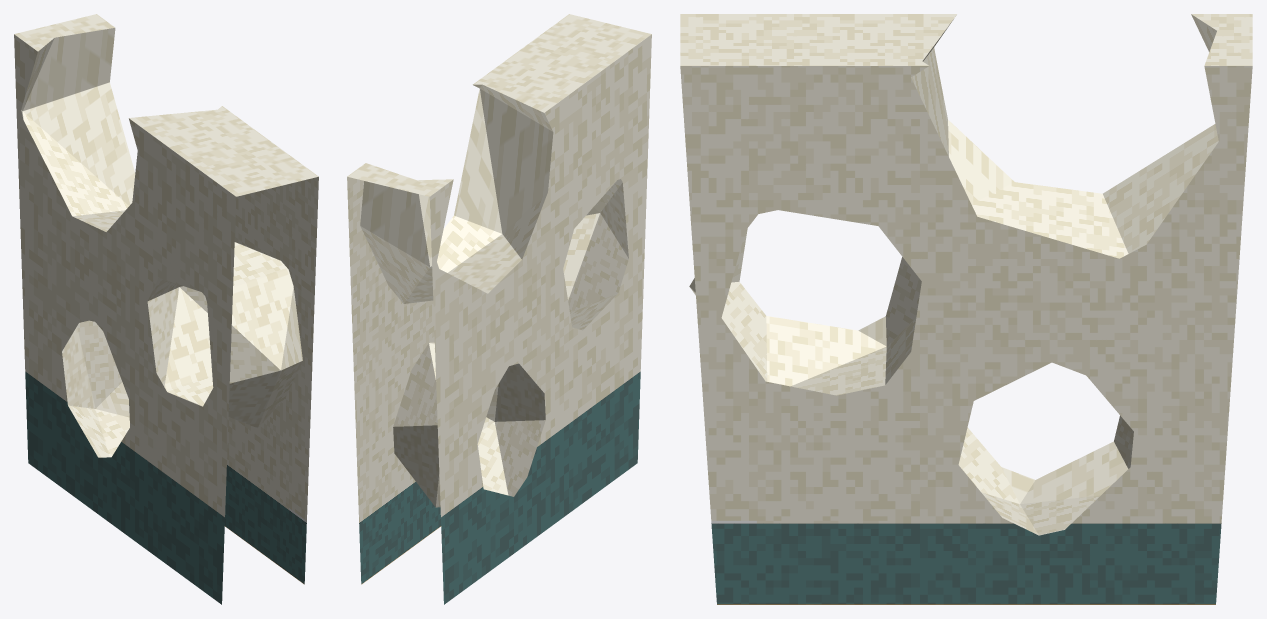
Rendered from murallarotagreciaver1.fbx.
3 views of the same model, side by side, from view 1: azimuth 30°, elevation 25°; view 2: azimuth 150°, elevation 25°; view 3: azimuth 270°, elevation 25° (orthographic). The views are drawn at different scales.
Visible parts, largest first — view 1: MurallaRota2; view 2: MurallaRota2; view 3: MurallaRota2.
Boxes of the visible parts, x1,y1,x2,y2 form: MurallaRota2: (14,14,318,604); MurallaRota2: (347,14,651,604); MurallaRota2: (680,14,1252,604).
Size of the model in its own units: 1.24 by 5.78 by 6.
1 material, 1 textured.
